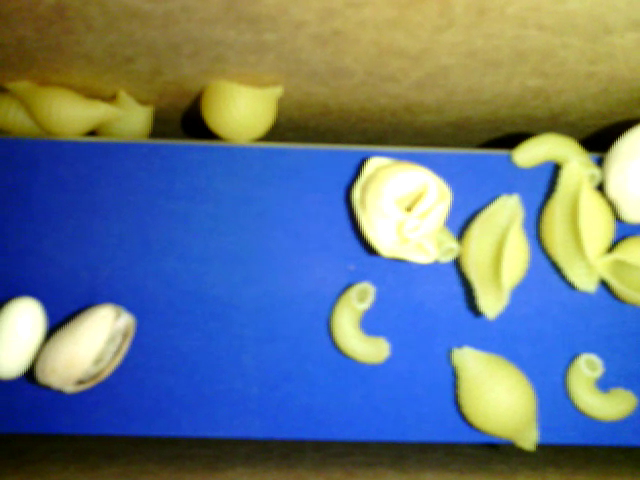elbow: (330, 278, 392, 366), (514, 132, 605, 190), (567, 349, 636, 421), (436, 225, 462, 268)
shell: (540, 161, 617, 294), (460, 190, 530, 319), (451, 345, 537, 448), (1, 76, 129, 138), (200, 80, 281, 148), (96, 88, 154, 143), (598, 236, 639, 313), (1, 92, 53, 139)
tortellini: (350, 154, 454, 266)
